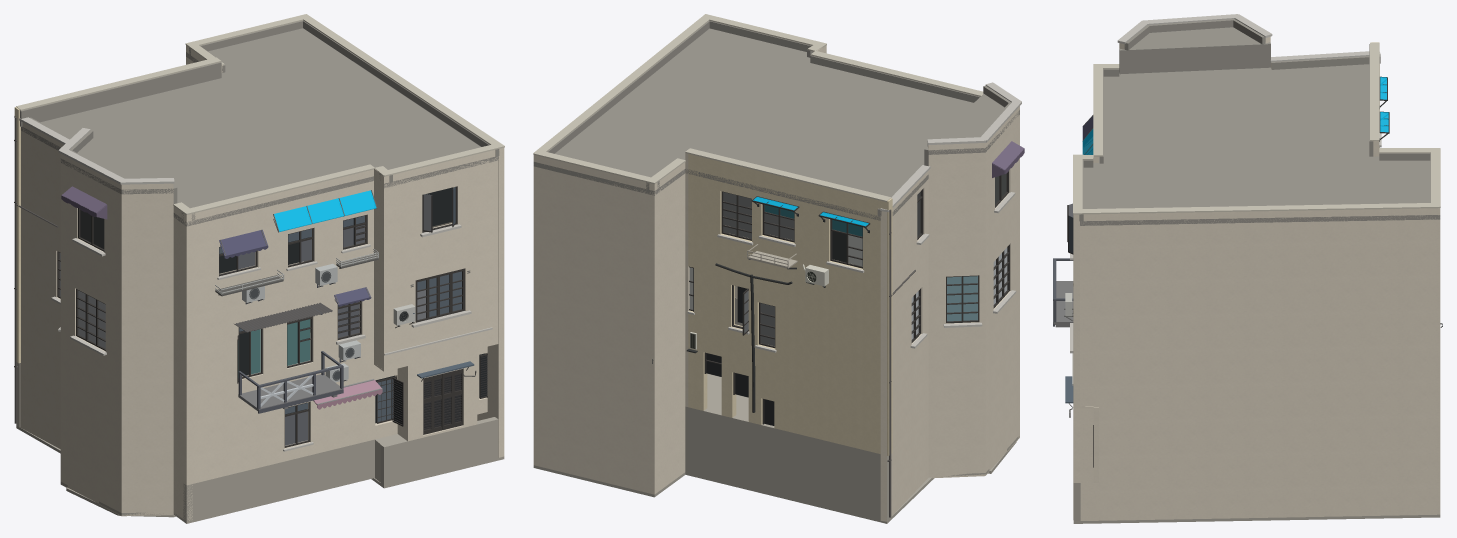
Rendered from xuhui-xiangyang-313-restored-courtyard-fronts-lod.glb.
3 views of the same model, side by side, from view 1: azimuth 30°, elevation 25°; view 2: azimuth 150°, elevation 25°; view 3: azimuth 270°, elevation 25° (orthographic).
Parts seen in each view (by area): view 1: 襄阳南路313号修缮后住宅院面; view 2: 襄阳南路313号修缮后住宅院面; view 3: 襄阳南路313号修缮后住宅院面.
Boxes of the visible parts, x1,y1,x2,y2 form: 襄阳南路313号修缮后住宅院面: (14,14,504,523); 襄阳南路313号修缮后住宅院面: (533,14,1024,523); 襄阳南路313号修缮后住宅院面: (1053,14,1442,523).
Size of the model in its own units: 14.16 by 12.27 by 12.98.
41 materials, 2 textured.
